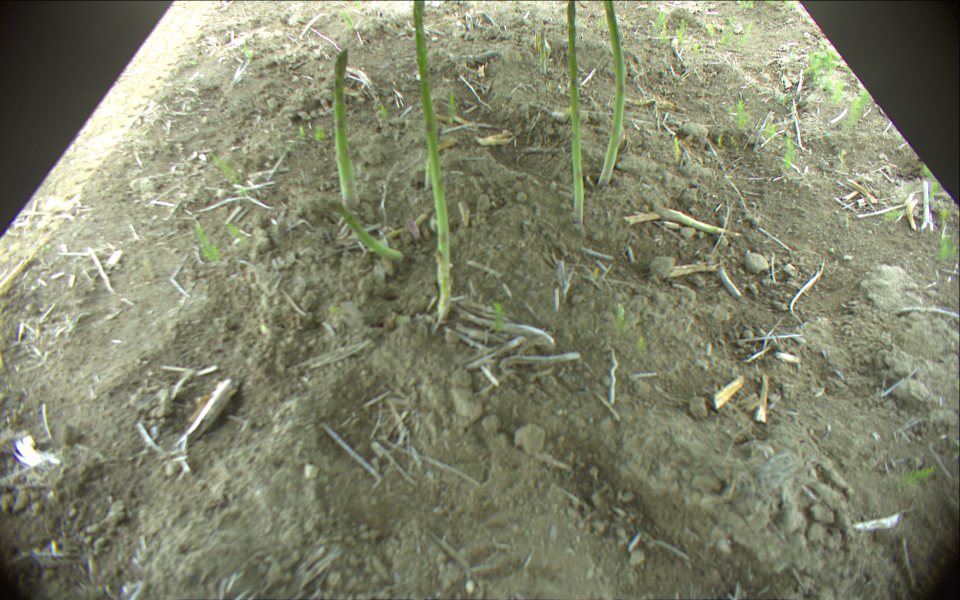aspa: (411, 1, 452, 318), (324, 197, 405, 263), (597, 1, 623, 186), (565, 1, 586, 223), (333, 48, 362, 208), (652, 203, 739, 238), (424, 123, 443, 189), (539, 26, 548, 76)
